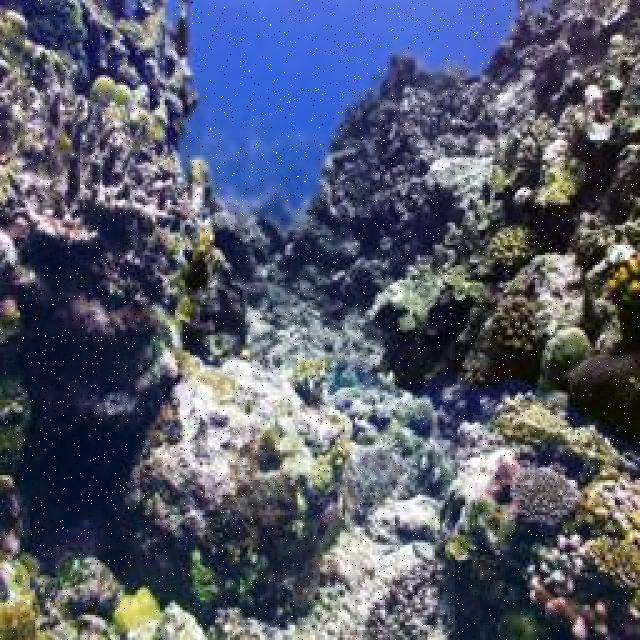reefs: (502, 400, 619, 485), (568, 355, 638, 451), (511, 469, 582, 526), (590, 534, 638, 618), (491, 295, 539, 353), (486, 225, 540, 267), (286, 357, 328, 400)
sea-floor: (285, 0, 638, 294)
